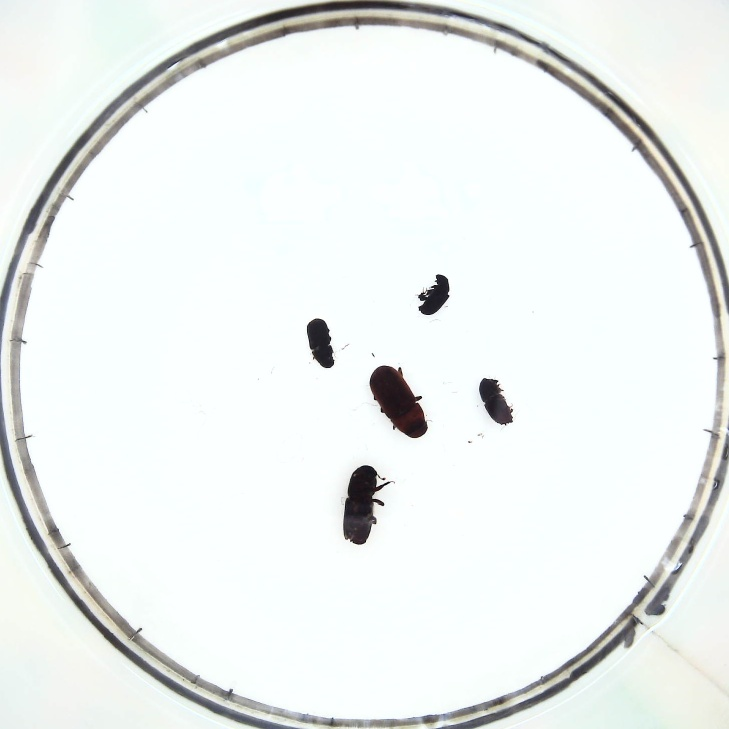armandi: (306, 318, 336, 368)
boerner: (345, 464, 379, 545)
coleoptera: (418, 272, 450, 315)
leconte: (371, 363, 429, 438)
linnaeus: (476, 377, 515, 427)
